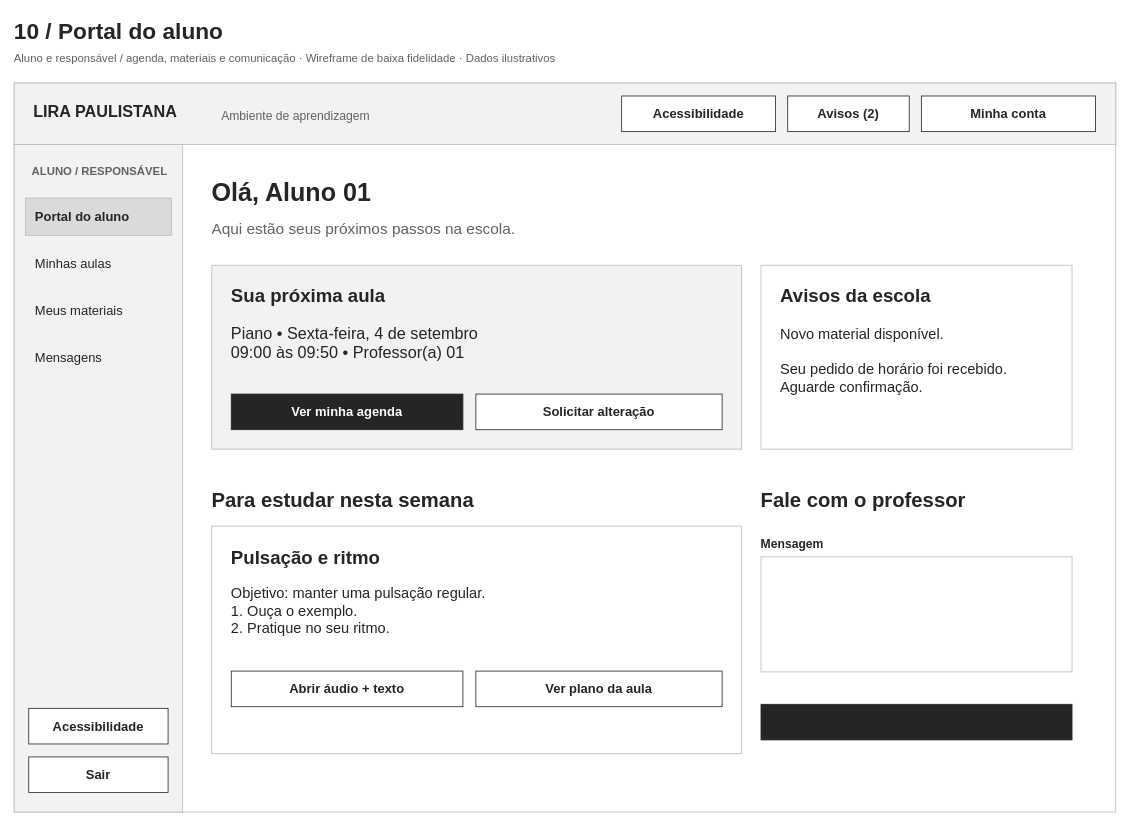
This 1130x826 diagram has some shape labels left out. The centre of each missing label's shape, as x and y in pixels:
"Enviar mensagem" belongs at point 916,721.
"Escreva sua dúvida sobre a aula..." belongs at point 916,614.
